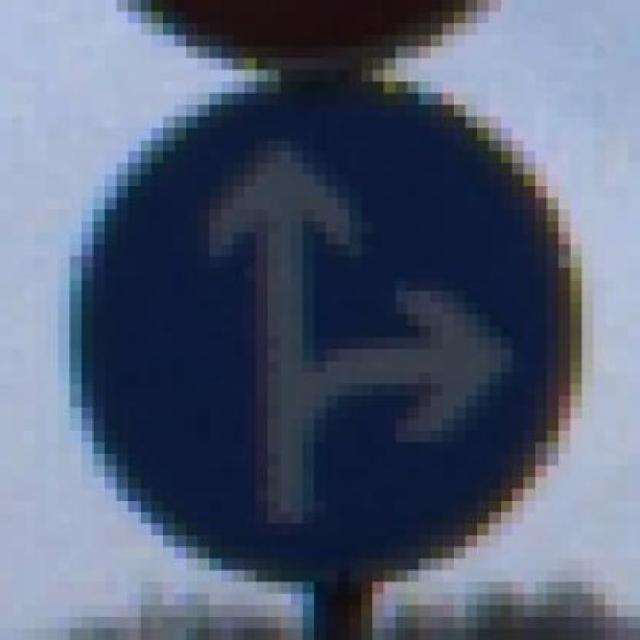Go Straight or Turn Right: (35, 58, 593, 594)
